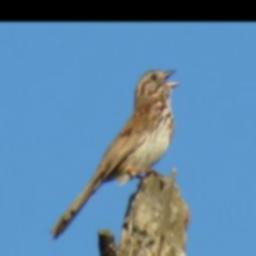Sparrow: (45, 66, 180, 243)
